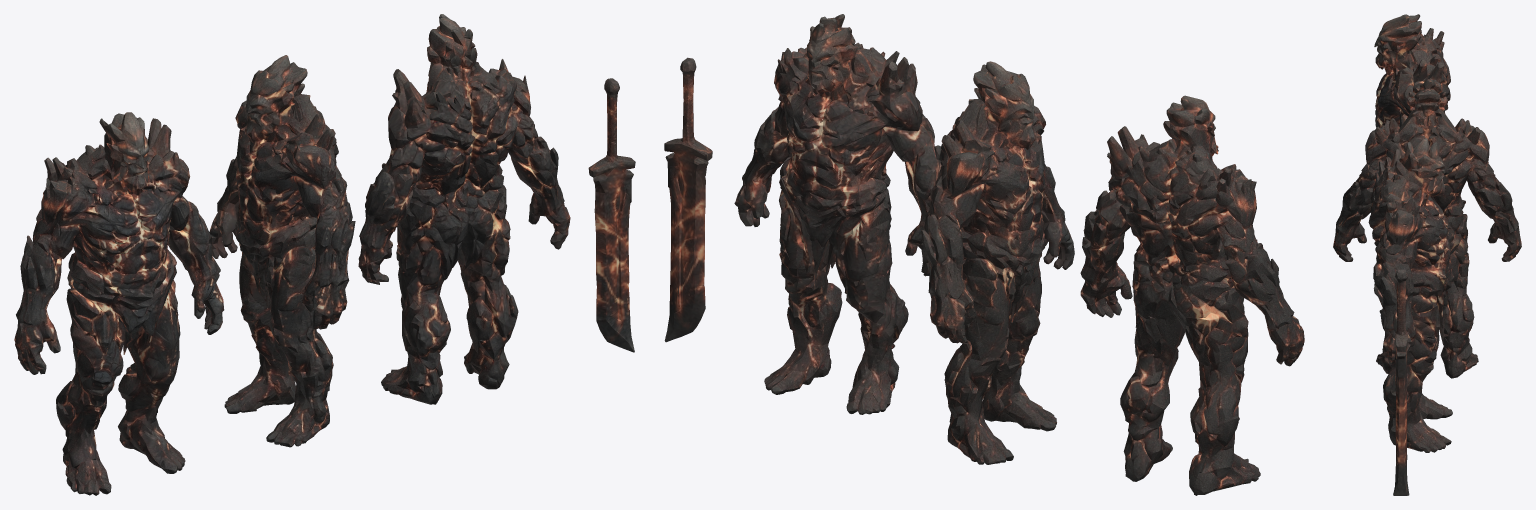
File: VHARKAR-v1-turnaround.glb
3 renders of one model, left to right at view 1: azimuth 30°, elevation 25°; view 2: azimuth 150°, elevation 25°; view 3: azimuth 270°, elevation 25°, orthographic. The views are drawn at different scales.
Parts seen in each view (by area): view 1: mesh_node; view 2: mesh_node; view 3: mesh_node.
Part boxes in pixels (x1,y1,x2,y2): mesh_node: [14, 14, 635, 495]; mesh_node: [664, 14, 1304, 495]; mesh_node: [1333, 14, 1521, 495].
Size of the model in its own units: 1.9 by 1.08 by 0.6319.
Materials: 1 (1 with a texture image).
